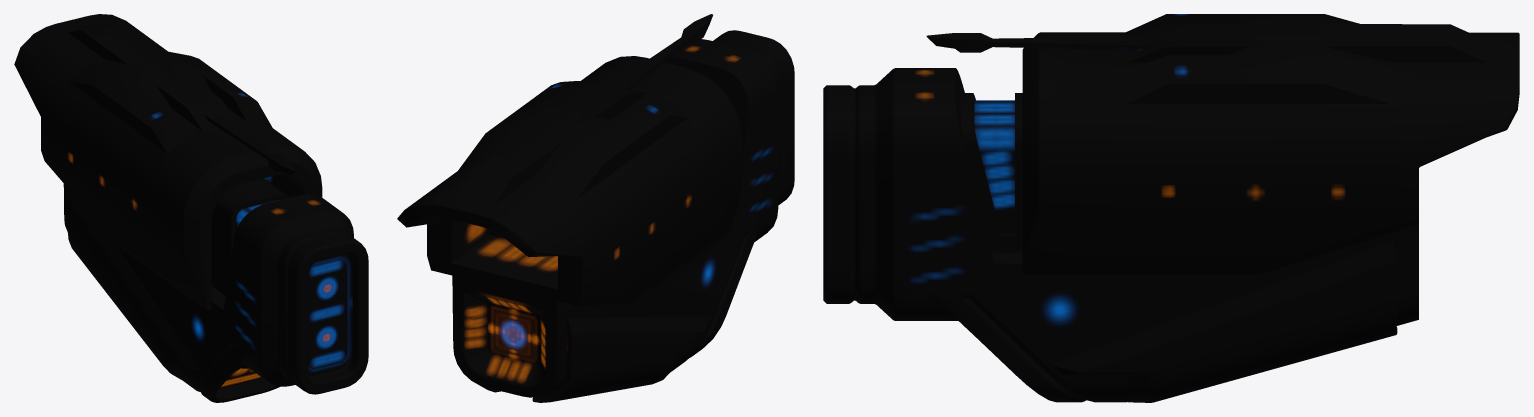
The model's file is SM_L_Engine_1.fbx.
3 views of the same model, side by side, from view 1: azimuth 30°, elevation 25°; view 2: azimuth 150°, elevation 25°; view 3: azimuth 270°, elevation 25° (orthographic). The views are drawn at different scales.
Visible parts, largest first — view 1: SM_L_Engine_1; view 2: SM_L_Engine_1; view 3: SM_L_Engine_1.
Part boxes in pixels (x1,y1,x2,y2): SM_L_Engine_1: (14, 14, 368, 402); SM_L_Engine_1: (397, 14, 794, 402); SM_L_Engine_1: (823, 14, 1519, 402).
Size of the model in its own units: 40.73 by 73.8 by 133.
